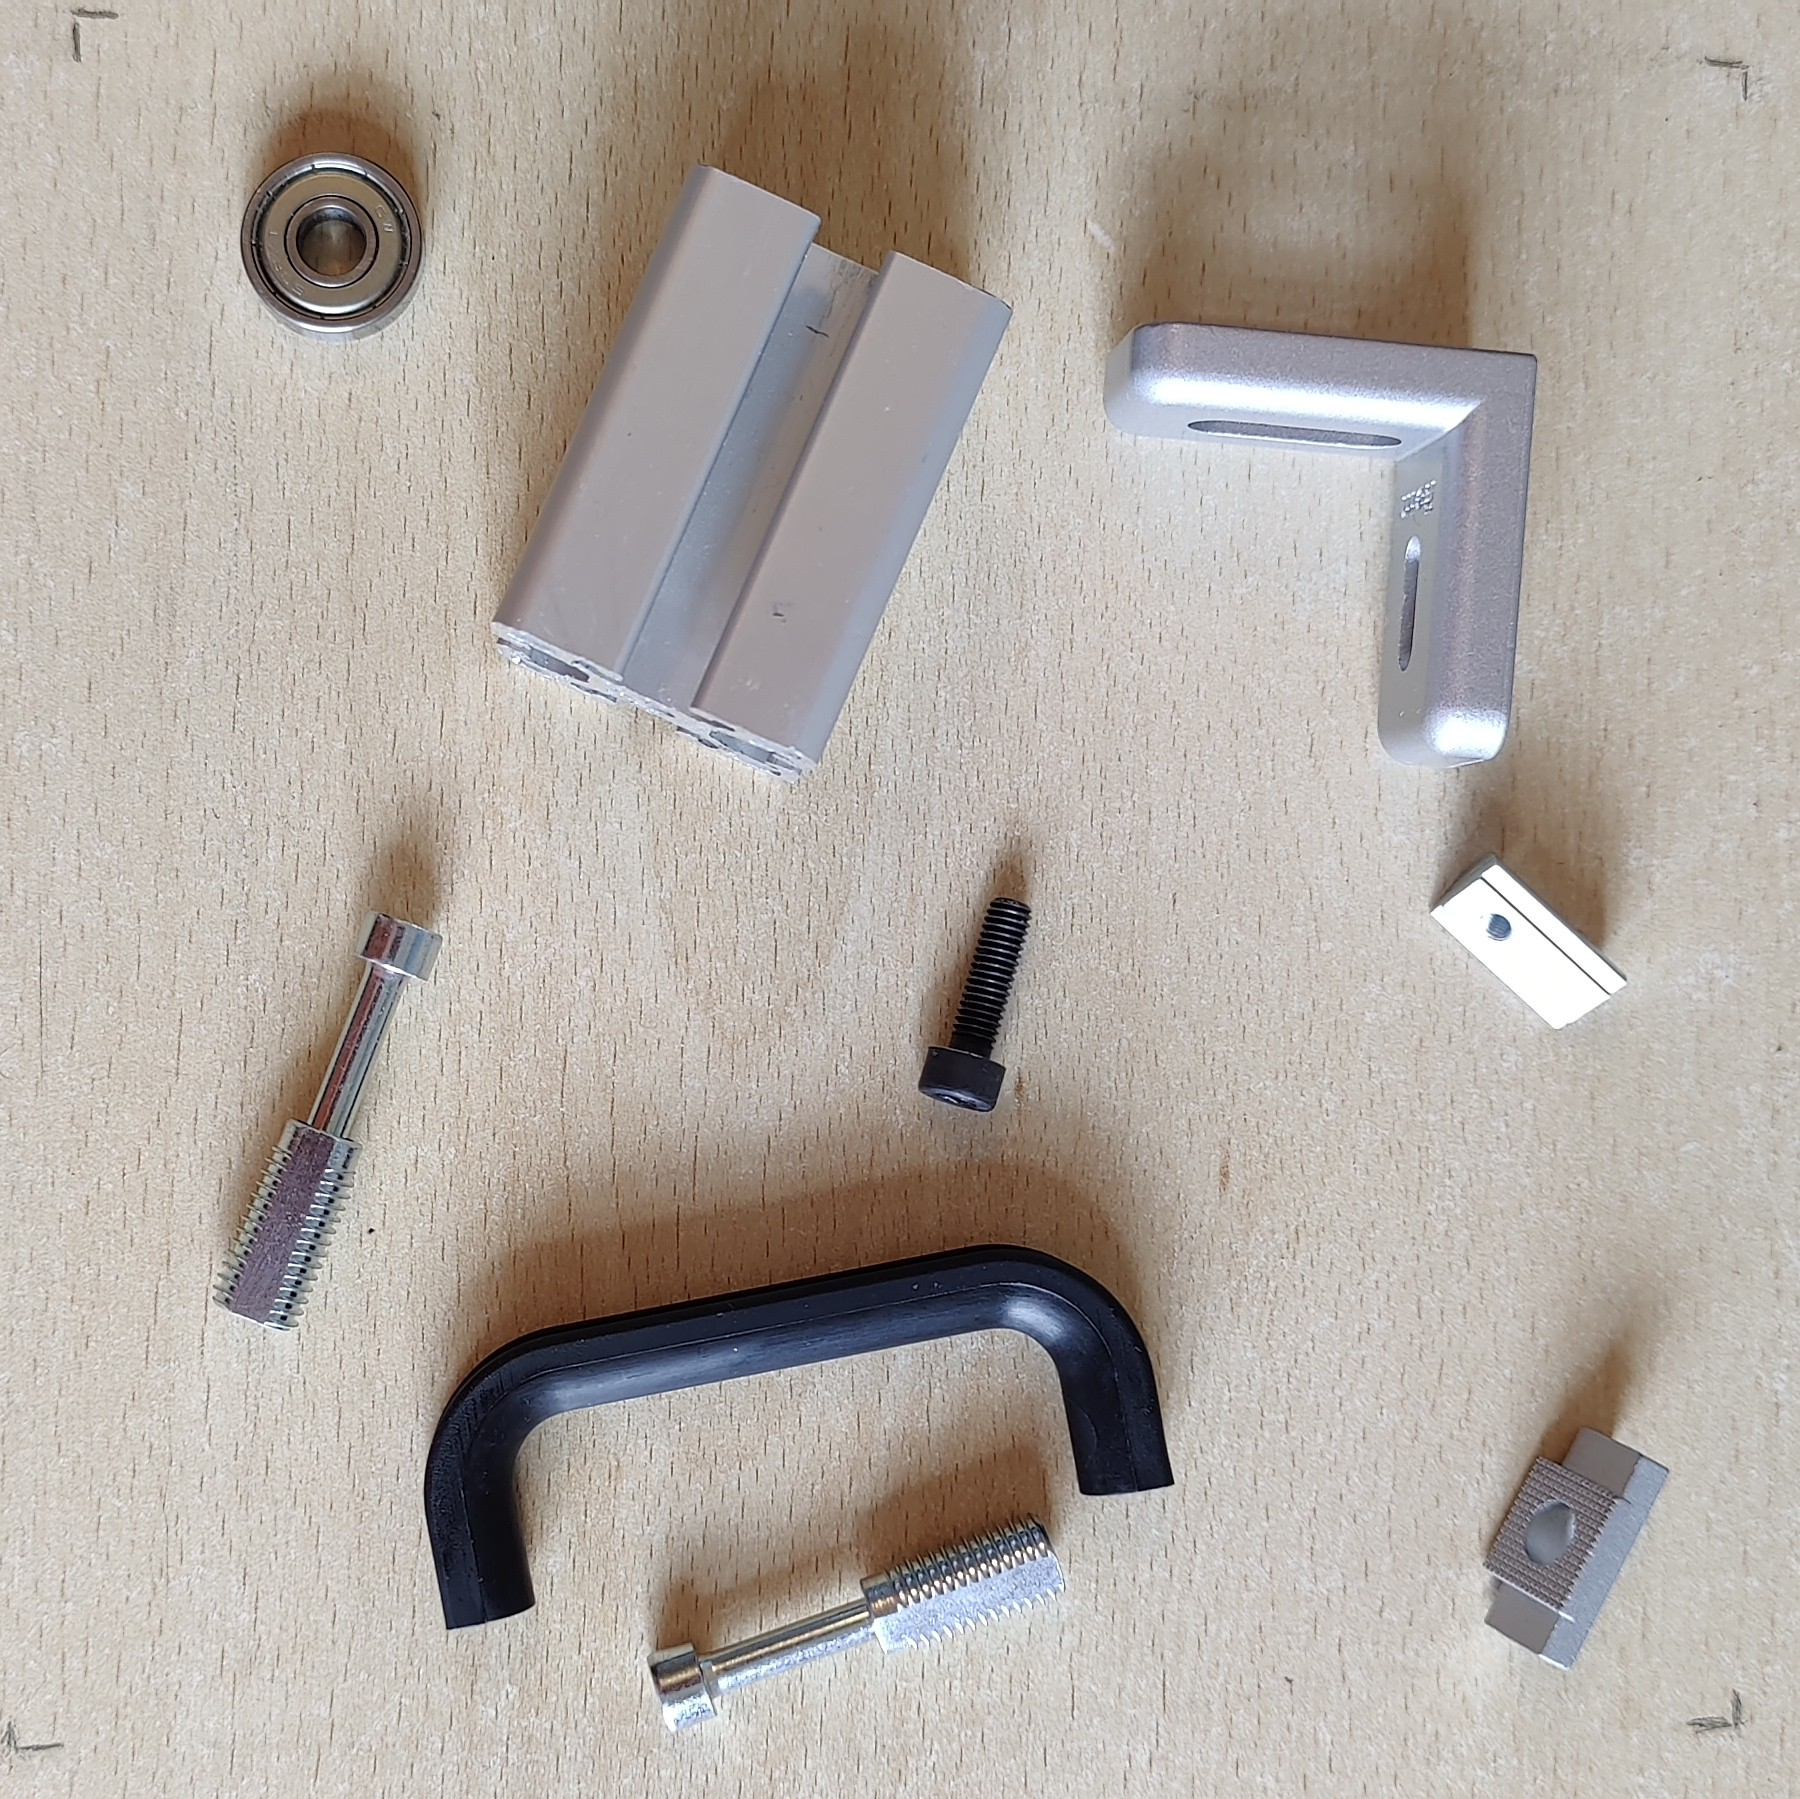Aluminium Extension: (486, 158, 1019, 794)
Ball Bearing: (235, 148, 428, 344)
Multiwinkel: (1098, 318, 1541, 773)
Pull Handle: (422, 1241, 1179, 1633)
Shoulder Socket Head Cap Screw: (209, 906, 446, 1334), (647, 1511, 1069, 1738)
Socket Head Cap Screw: (916, 891, 1034, 1115)
T Nut Square: (1477, 1422, 1673, 1674)
T Spring Nut: (1428, 845, 1630, 1035)
